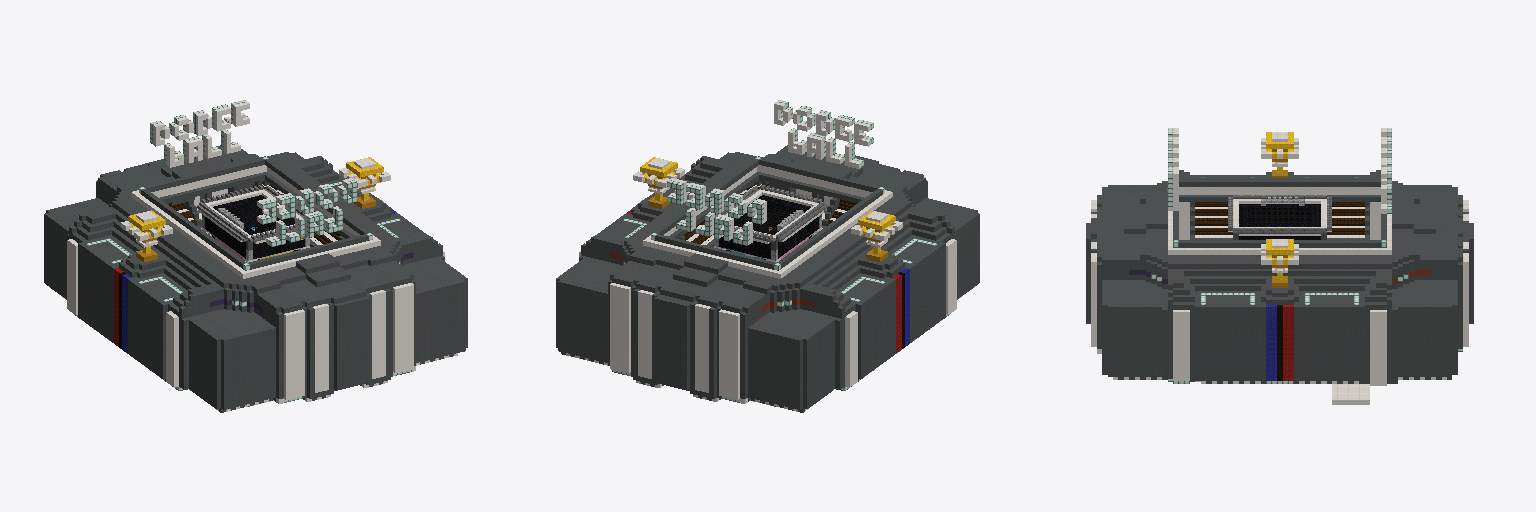
3 views of the same model, side by side, from view 1: azimuth 30°, elevation 25°; view 2: azimuth 150°, elevation 25°; view 3: azimuth 270°, elevation 25° (orthographic).
Bounding box in the file's own units: 57 × 42 × 71.
44 materials, 43 textured.